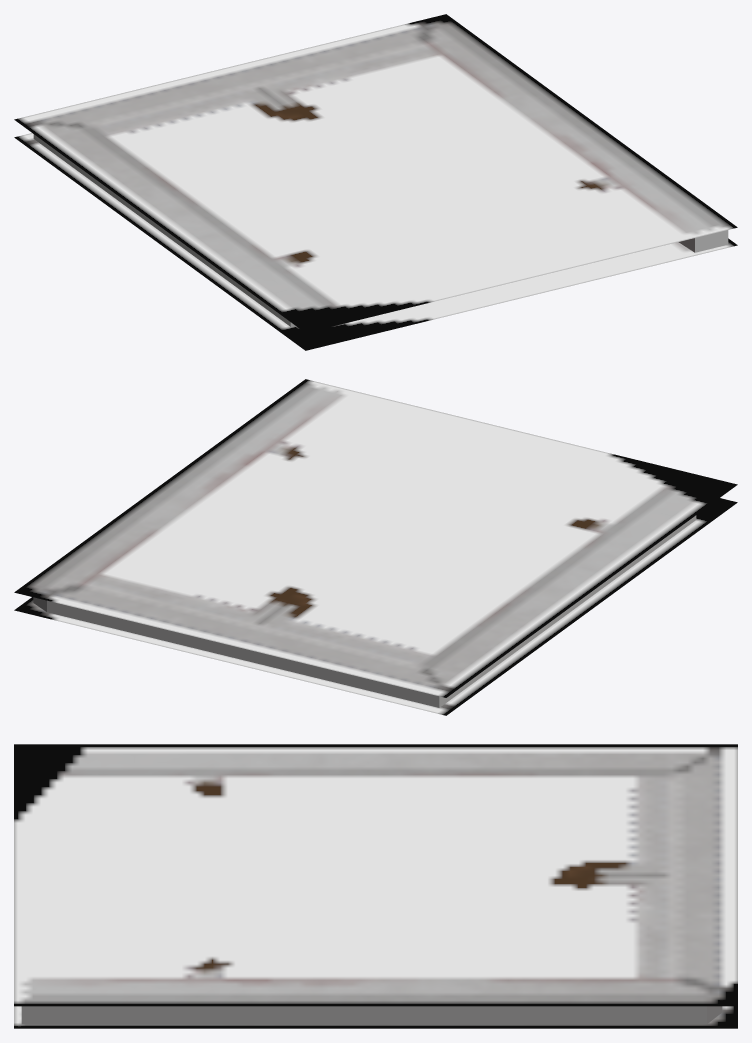
The model's file is pz_native_location_community_church_small_01_269_frame.obj.
3 renders of one model, top to bottom at view 1: azimuth 30°, elevation 25°; view 2: azimuth 150°, elevation 25°; view 3: azimuth 270°, elevation 25°, orthographic. The views are drawn at different scales.
Visible parts, largest first — view 1: pz_native_location_community_church_small_01_269_frame; view 2: pz_native_location_community_church_small_01_269_frame; view 3: pz_native_location_community_church_small_01_269_frame.
Boxes of the visible parts, x1,y1,x2,y2 form: pz_native_location_community_church_small_01_269_frame: [14, 14, 737, 350]; pz_native_location_community_church_small_01_269_frame: [14, 379, 737, 715]; pz_native_location_community_church_small_01_269_frame: [14, 744, 737, 1028].
Size of the model in its own units: 1.02 by 0.04 by 1.19.
Materials: 1 (1 with a texture image).
